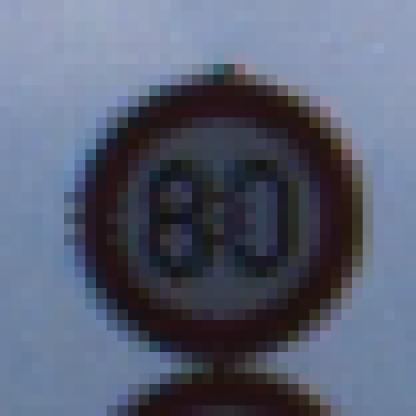Speed Limit -80-: (80, 56, 384, 375)
